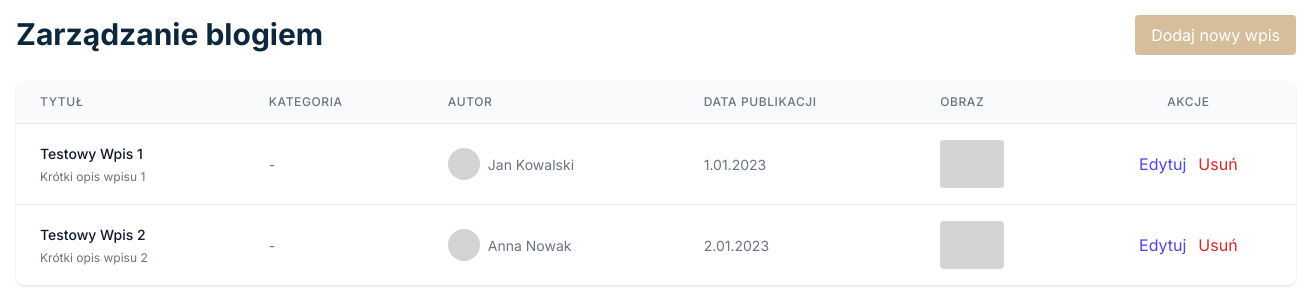
Test case: BlogManagementPage Component › usuwa wpis bloga po potwierdzeniu
Check: the text "Testowy Wpis 1" is shown, box [40,144,143,162]
# Klikamy przycisk "Usuń" dla pierwszego wpisu
Click the button "Usuń" in the row of "Testowy Wpis 1": (1218, 164) [1198,152,1238,176]
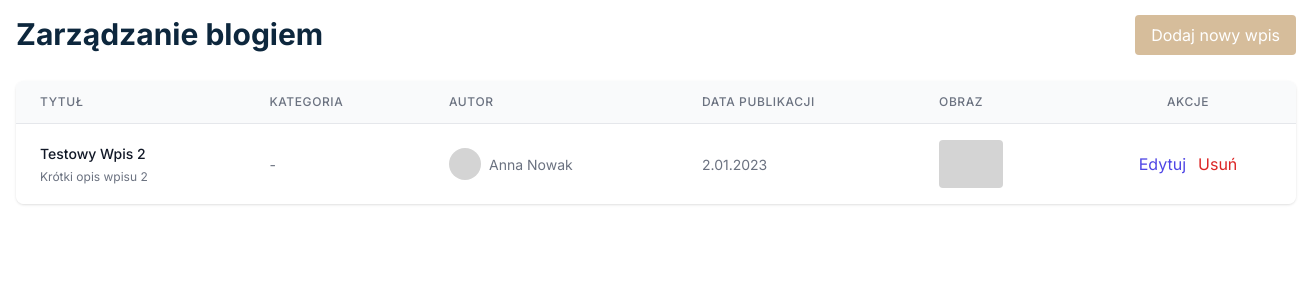
Check: the text "Testowy Wpis 1" is gone
